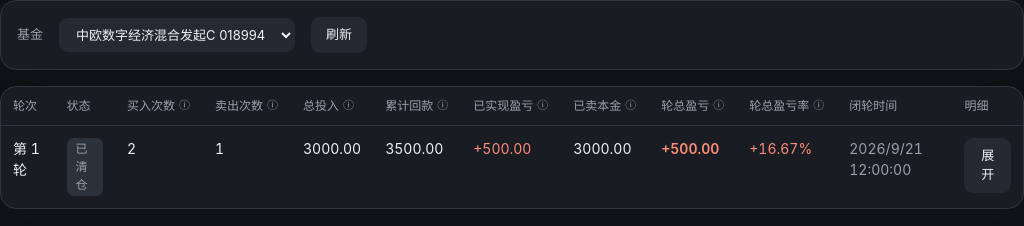
ClosedRounds › 表头 ⓘ 点击弹出计算公式气泡
Expected: the text "第 1 轮" is shown, [1,125,54,208]
Click the button named "轮总盈亏计算公式" at {"x": 719, "y": 106}, box [712,100,725,111]
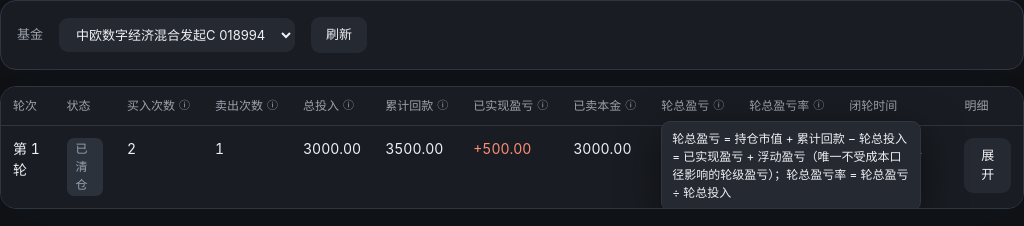
Now the tooltip is shown, box [661,120,921,208]
Now the tooltip shows "轮总盈亏 = 持仓市值 + 累计回款 − 轮总投入", box [672,130,908,200]
